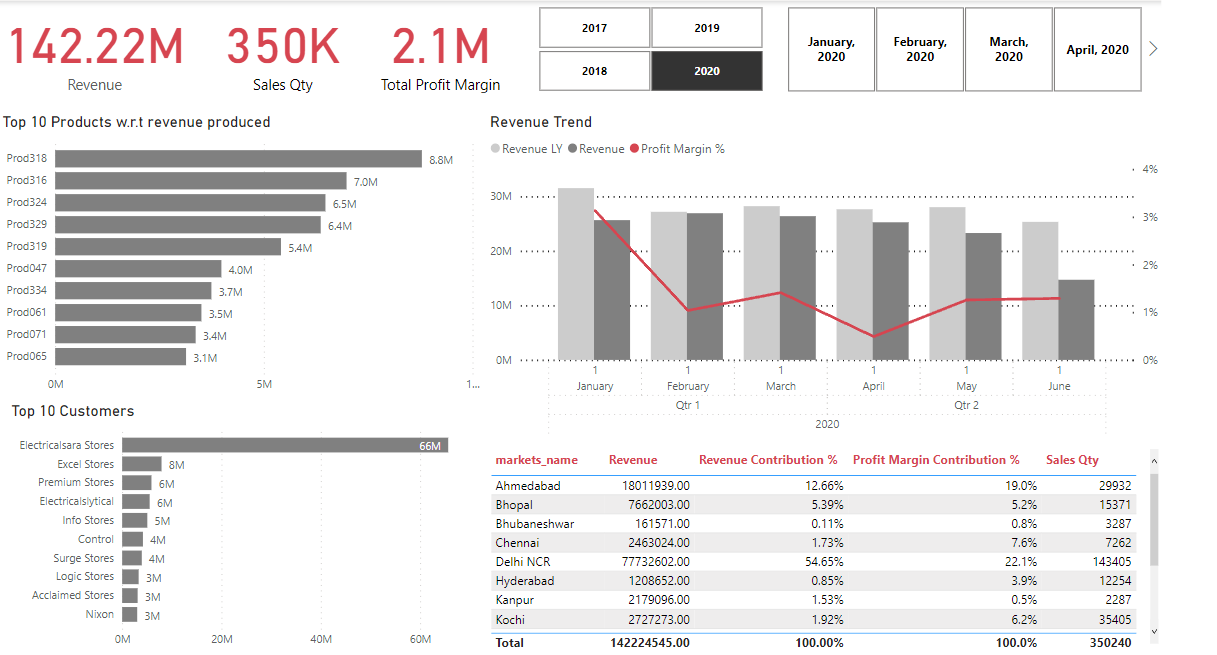

The page's visual inventory and layout, read from the dashboard file:
{"tool":"powerbi","page":{"name":"Revenue","canvas":[1280,720],"ordinal":1},"visuals":[{"type":"card","fields":{"Values":["Base Measures.Revenue"]},"box":[0,0,212.1,106.1],"z":0},{"type":"card","fields":{"Values":["Base Measures.Sales Qty"]},"box":[231.7,0,161.9,106.1],"z":1},{"type":"card","fields":{"Values":["Base Measures.Total Profit Margin"]},"box":[403.3,0,164.7,106.1],"z":2},{"type":"slicer","fields":{"Values":["sales date.cy_date"]},"box":[841.8,0,438.2,106.1],"z":3},{"type":"slicer","fields":{"Values":["sales date.year"]},"box":[568.6,0,295.3,105.8],"z":4},{"type":"lineClusteredColumnComboChart","title":"Revenue Trend","fields":{"Category":["sales date.cy_date.Variation.Date Hierarchy.Year","sales date.cy_date.Variation.Date Hierarchy.Quarter","sales date.cy_date.Variation.Date Hierarchy.Month","sales date.cy_date.Variation.Date Hierarchy.Day"],"Y":["Base Measures.Revenue LY","Base Measures.Revenue"],"Y2":["Base Measures.Profit Margin %"]},"box":[535.6,122.2,744.4,365.3],"z":7},{"type":"barChart","title":"Top 10 Products w.r.t revenue produced","fields":{"Category":["sales transactions.product_code"],"Y":["Base Measures.Revenue"]},"box":[0,122.2,535.6,317.3],"z":8},{"type":"barChart","title":"Top 10 Customers ","fields":{"Category":["sales customers.custmer_name"],"Y":["Base Measures.Revenue"]},"box":[9.6,439.5,526,280.2],"z":9},{"type":"tableEx","fields":{"Values":["sales markets.markets_name","Base Measures.Revenue","Base Measures.Revenue Contribution %","Base Measures.Profit Margin Contribution %","Base Measures.Sales Qty"]},"box":[536,487,744,232],"z":10}]}

Visuals, with their boxes on the page's 1280x720 design canvas (x1, y1, x2, y2). These are canvas units, not pixel positions in the 1217x655 screenshot, which may show the page scaled, cropped or inside an application window:
card - Base Measures.Revenue: [0,0,212,106]
card - Base Measures.Sales Qty: [232,0,394,106]
card - Base Measures.Total Profit Margin: [403,0,568,106]
slicer - sales date.cy_date: [842,0,1280,106]
slicer - sales date.year: [569,0,864,106]
"Revenue Trend" lineClusteredColumnComboChart: [536,122,1280,488]
"Top 10 Products w.r.t revenue produced" barChart: [0,122,536,440]
"Top 10 Customers " barChart: [10,440,536,720]
tableEx - sales markets.markets_name x Base Measures.Revenue: [536,487,1280,719]
